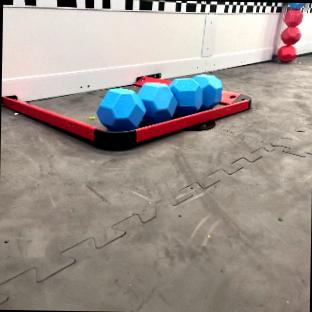Parking-R: (1, 89, 250, 149)
V5_BLUE: (97, 73, 221, 130), (96, 87, 144, 130), (138, 80, 176, 123)
V5_RED: (278, 43, 295, 61), (285, 8, 301, 26)
